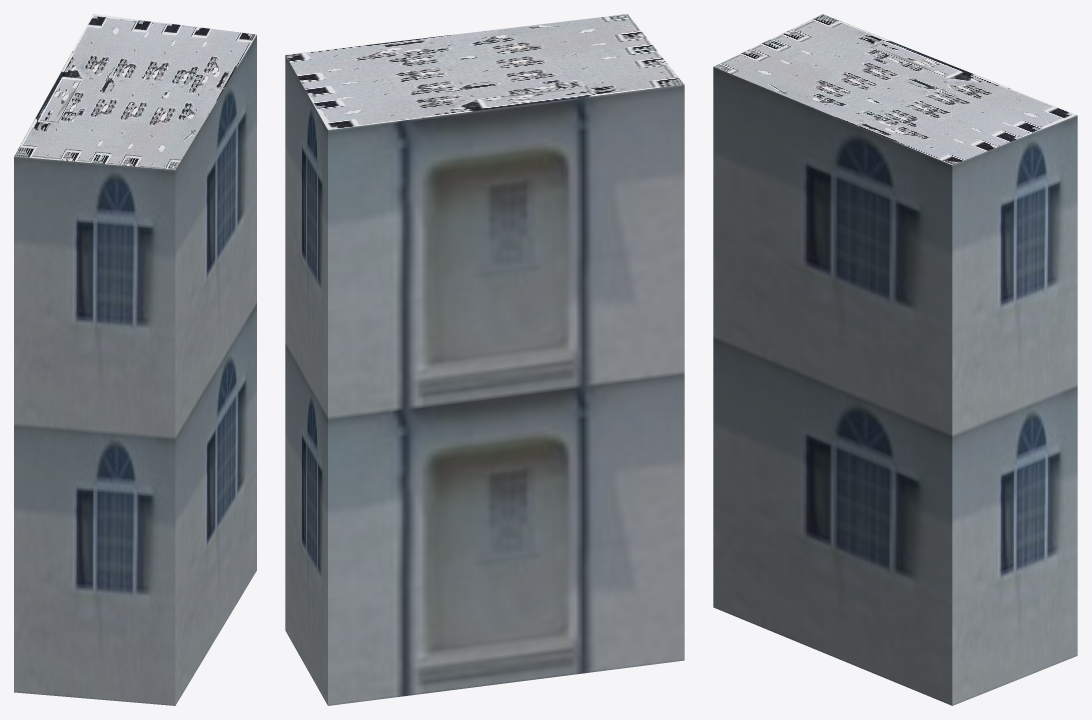
The model's file is ResTex__1655.fbx.
The picture shows the model from 3 angles, left to right: view 1: azimuth 30°, elevation 25°; view 2: azimuth 150°, elevation 25°; view 3: azimuth 270°, elevation 25°; orthographic projection. The views are drawn at different scales.
Visible parts, largest first — view 1: CityEngineMaterial_17_m, CityEngineMaterial_4_m; view 2: CityEngineMaterial_17_m, CityEngineMaterial_4_m; view 3: CityEngineMaterial_17_m, CityEngineMaterial_4_m.
Part boxes in pixels (<box>): CityEngineMaterial_17_m: <box>14,35,256,705</box>; CityEngineMaterial_4_m: <box>14,14,256,169</box>; CityEngineMaterial_17_m: <box>285,55,684,705</box>; CityEngineMaterial_4_m: <box>285,14,684,129</box>; CityEngineMaterial_17_m: <box>713,67,1077,705</box>; CityEngineMaterial_4_m: <box>714,14,1076,164</box>.
Size of the model in its own units: 3.6 by 6 by 3.66.
2 materials, 2 textured.
